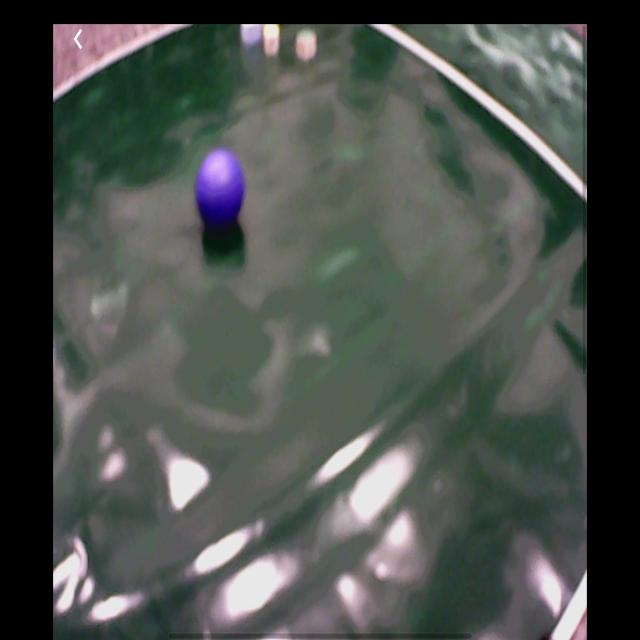ball: (197, 149, 245, 224)
